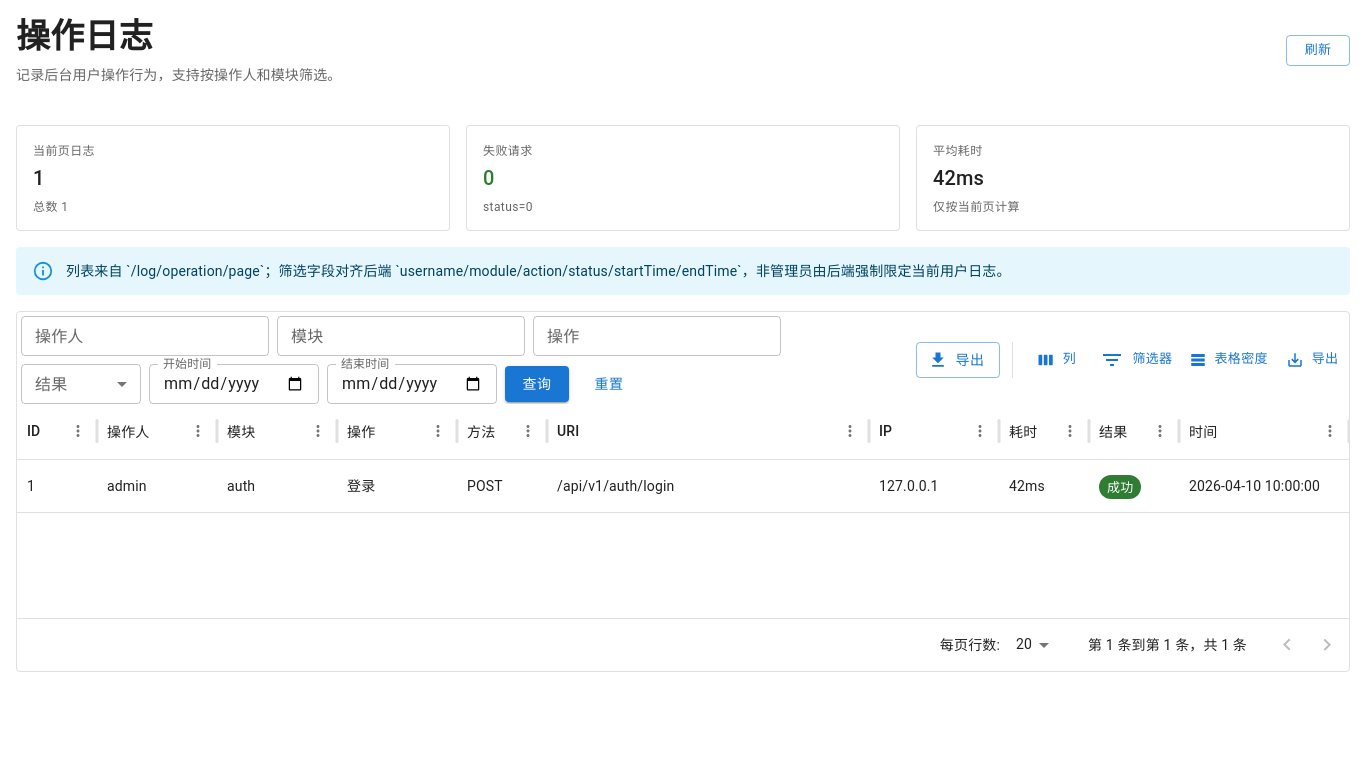
Test: OperationLogPage › shows operation export endpoint error and keeps current filters
Expected: the text "admin" is shown, top-left (107, 478), bottom-right (147, 494)
Step 1. Type "admin" into the field labelled "操作人" → (145, 336), box top-left (21, 316), bottom-right (269, 356)
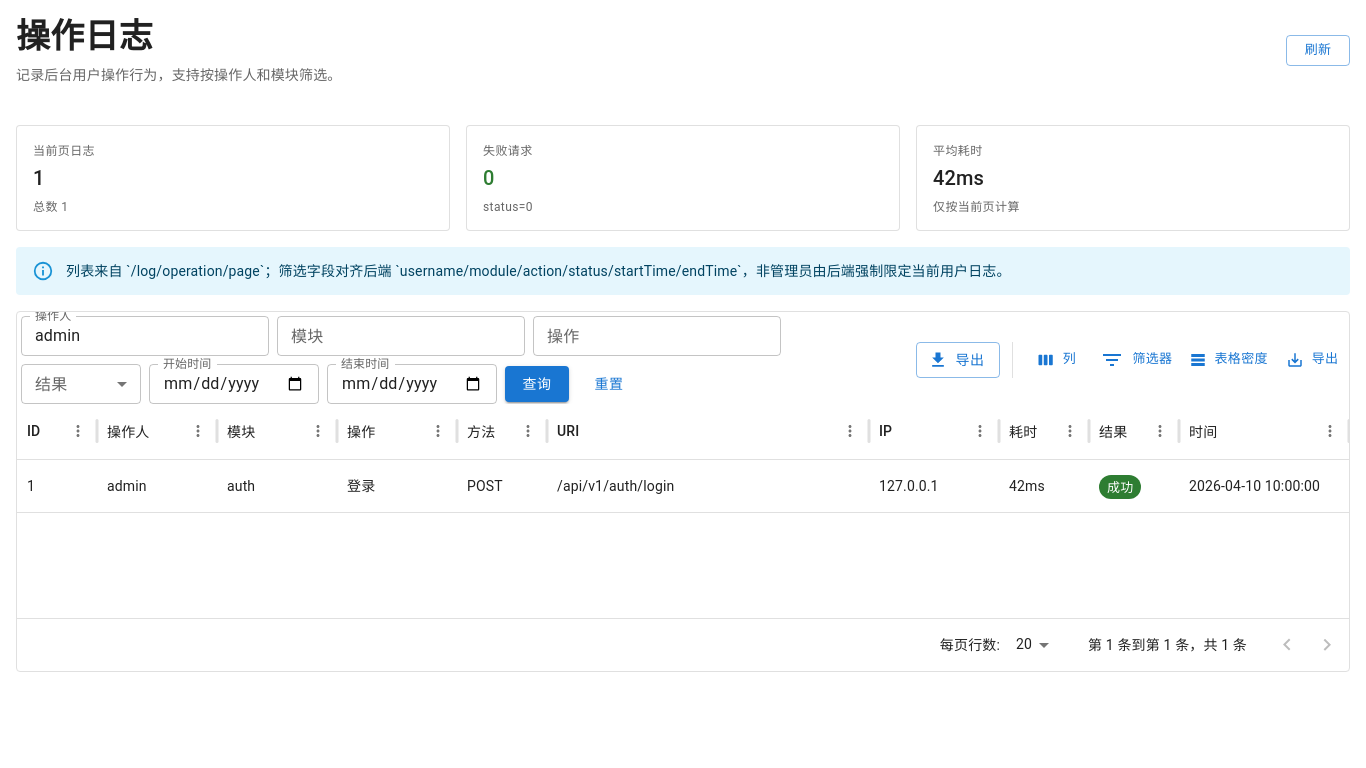
Step 2. Click the button "查询" → (537, 384), box top-left (505, 366), bottom-right (569, 402)
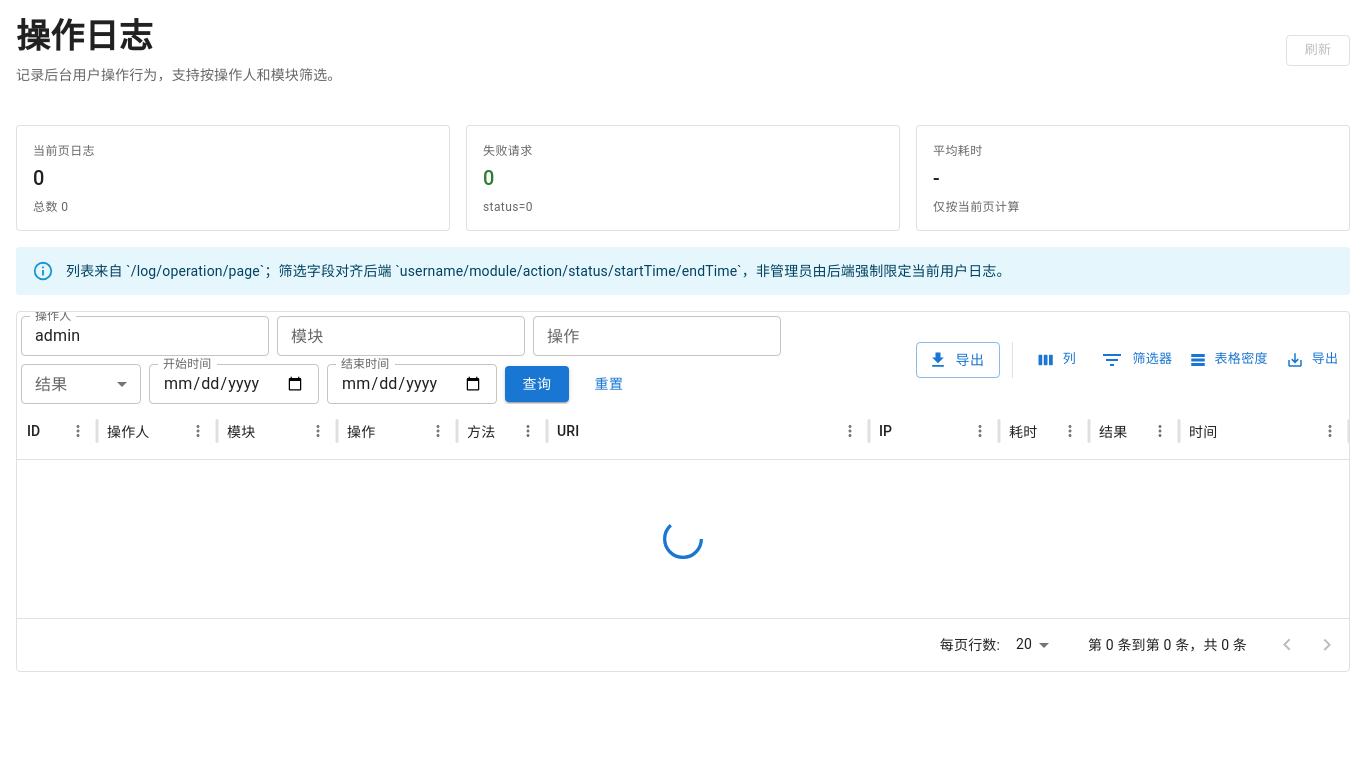
Step 3. Click the 1st button "导出" → (958, 360), box top-left (916, 342), bottom-right (1000, 378)
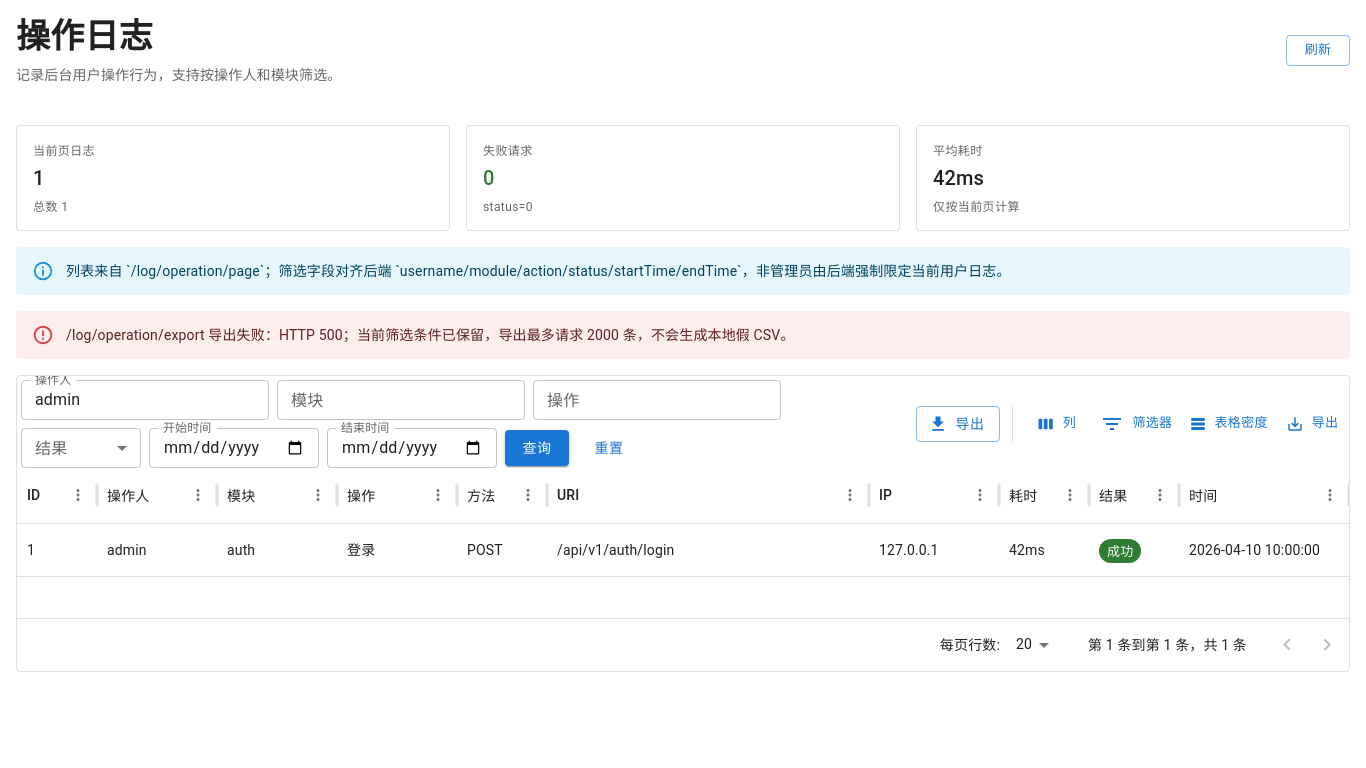
Result: the text "/log/operation/export 导出失败：HTTP 500" is shown at top-left (66, 327), bottom-right (343, 343)
